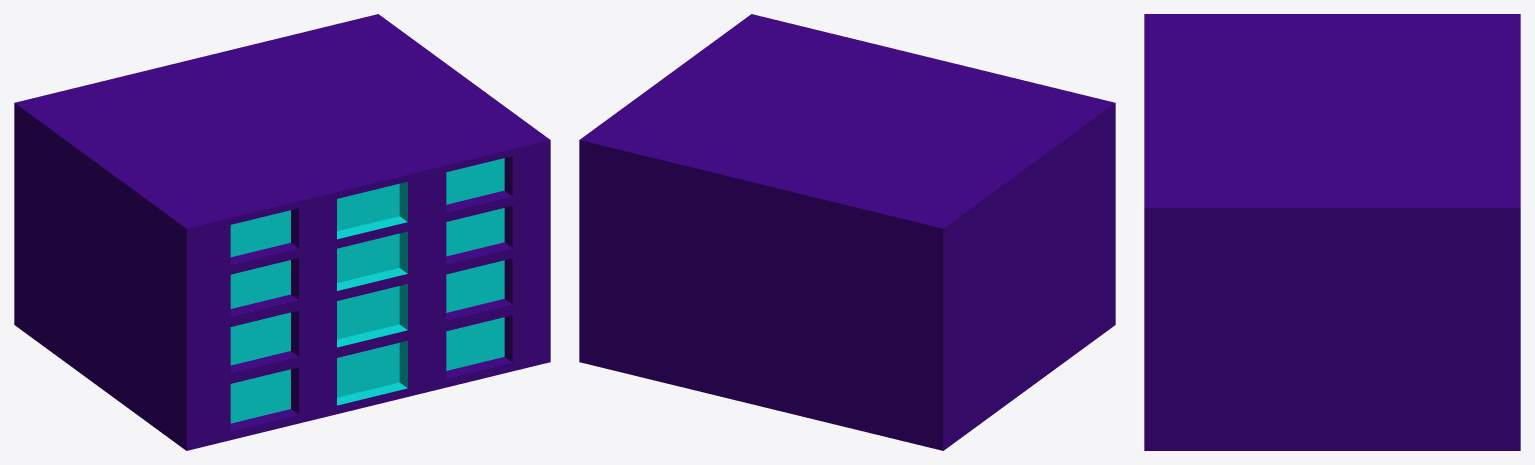
The picture shows the model from 3 angles, left to right: view 1: azimuth 30°, elevation 25°; view 2: azimuth 150°, elevation 25°; view 3: azimuth 270°, elevation 25°; orthographic projection. The views are drawn at different scales.
Visible parts, largest first — view 1: B_5; view 2: B_5; view 3: B_5.
Boxes of the visible parts, <box> form: B_5: <box>14,14,550,450</box>; B_5: <box>579,14,1115,450</box>; B_5: <box>1144,14,1520,450</box>.
Bounding box in the file's own units: 366 × 214 × 300.
